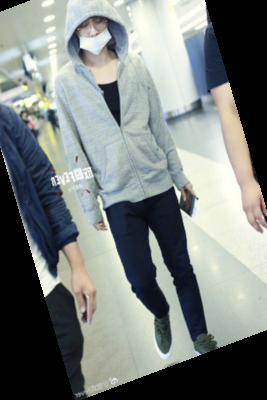mask_weared_incorrect: (58, 1, 138, 62)
